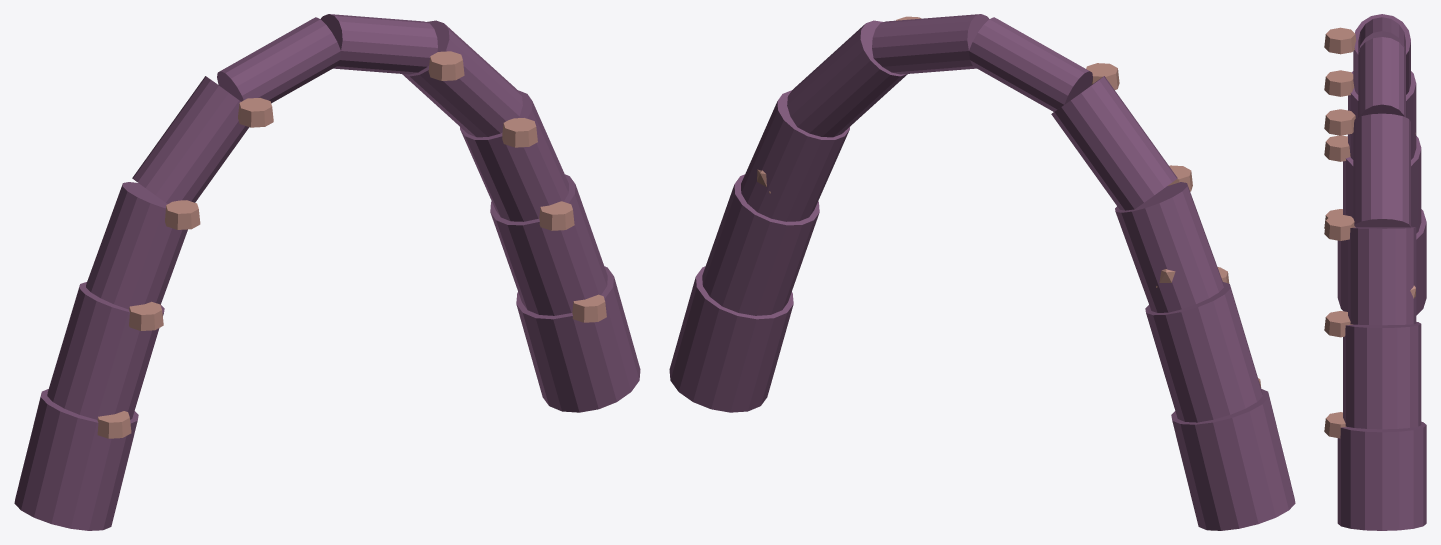
File: PirateCove_KrakenArch_Showcase.glb
3 renders of one model, left to right at view 1: azimuth 30°, elevation 25°; view 2: azimuth 150°, elevation 25°; view 3: azimuth 270°, elevation 25°, orthographic. The views are drawn at different scales.
Parts seen in each view (by area): view 1: PirateCove_KrakenArch_Showcase; view 2: PirateCove_KrakenArch_Showcase; view 3: PirateCove_KrakenArch_Showcase.
Boxes of the visible parts, x1,y1,x2,y2 form: PirateCove_KrakenArch_Showcase: [14, 14, 640, 530]; PirateCove_KrakenArch_Showcase: [669, 14, 1295, 530]; PirateCove_KrakenArch_Showcase: [1324, 14, 1426, 530].
Bounding box in the file's own units: 4.18 × 2.88 × 0.69.
